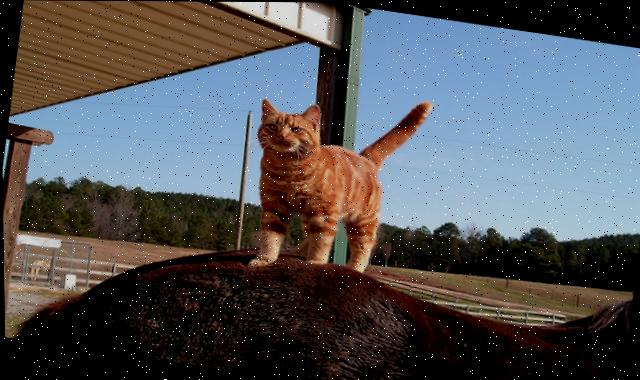cat: (243, 76, 418, 282)
